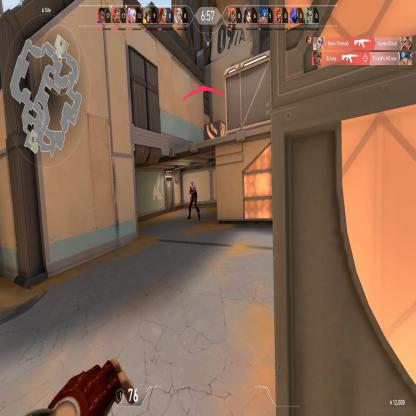enemy: (186, 178, 200, 222)
